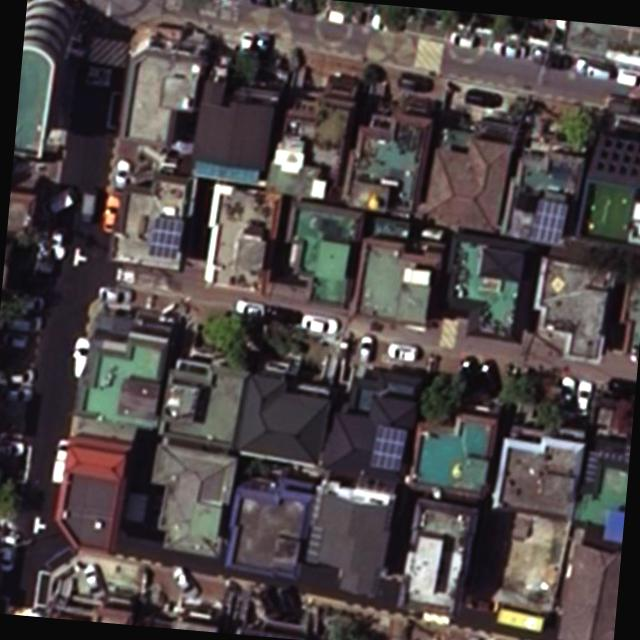solar: (532, 199, 570, 248), (370, 424, 407, 473), (146, 216, 184, 262)
